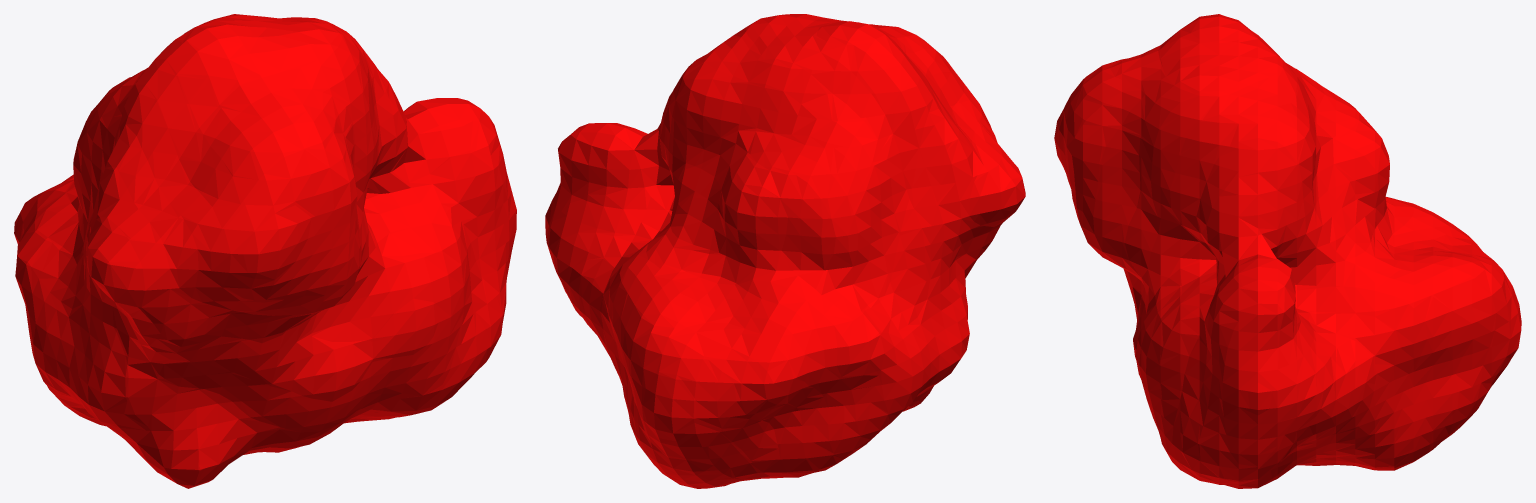
The model's file is suhB_coarse.dae.
3 views of the same model, side by side, from view 1: azimuth 30°, elevation 25°; view 2: azimuth 150°, elevation 25°; view 3: azimuth 270°, elevation 25° (orthographic). The views are drawn at different scales.
Parts seen in each view (by area): view 1: suhB; view 2: suhB; view 3: suhB.
Boxes of the visible parts, left/top/right/bottom form: suhB: left=14, top=14, right=516, bottom=488; suhB: left=545, top=14, right=1025, bottom=488; suhB: left=1054, top=14, right=1521, bottom=488.
Bounding box in the file's own units: 55.41 × 52.04 × 53.46.
